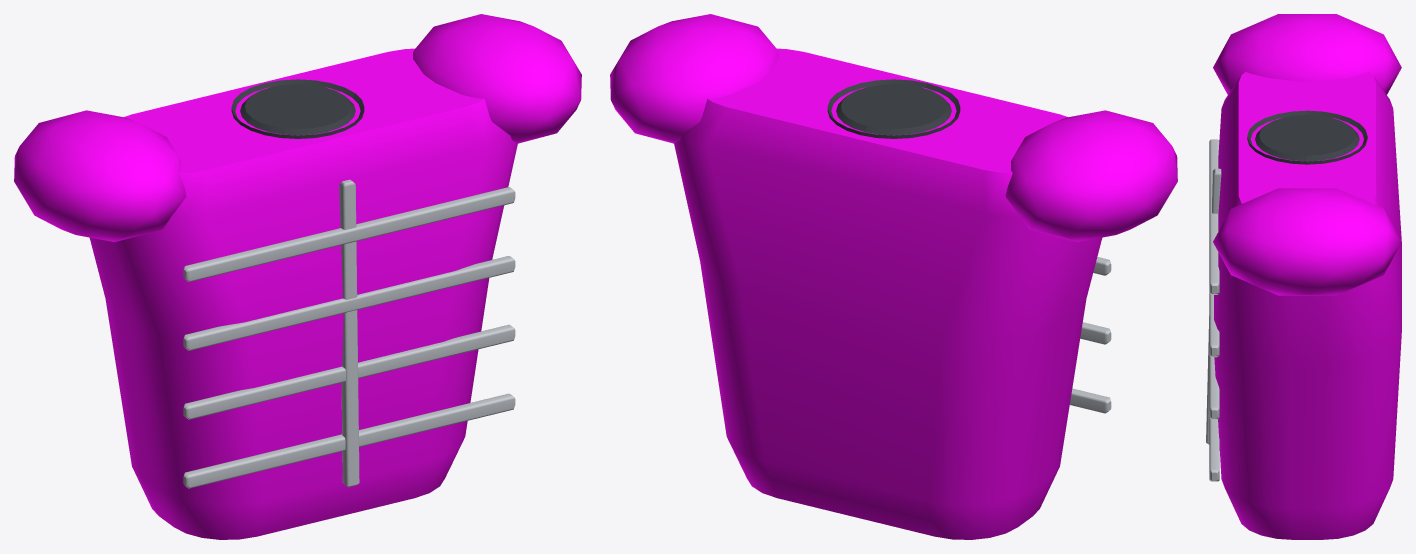
Rendered from objet_armure2_plastron.glb.
3 renders of one model, left to right at view 1: azimuth 30°, elevation 25°; view 2: azimuth 150°, elevation 25°; view 3: azimuth 270°, elevation 25°, orthographic. The views are drawn at different scales.
Visible parts, largest first — view 1: plastron_teinte.006, plastron_rivet.004, plastron_teinte_sombre.006; view 2: plastron_teinte.006, plastron_teinte_sombre.006, plastron_rivet.004; view 3: plastron_teinte.006, plastron_teinte_sombre.006, plastron_rivet.004.
Part boxes in pixels (<box>): plastron_teinte.006: <box>14,14,581,539</box>; plastron_rivet.004: <box>183,179,515,488</box>; plastron_teinte_sombre.006: <box>231,79,364,138</box>; plastron_teinte.006: <box>610,14,1177,539</box>; plastron_teinte_sombre.006: <box>827,79,960,138</box>; plastron_rivet.004: <box>1069,257,1111,413</box>; plastron_teinte.006: <box>1213,14,1401,539</box>; plastron_teinte_sombre.006: <box>1247,110,1367,164</box>; plastron_rivet.004: <box>1206,139,1221,481</box>.
Bounding box in the file's own units: 0.3256 × 0.24 × 0.114.
